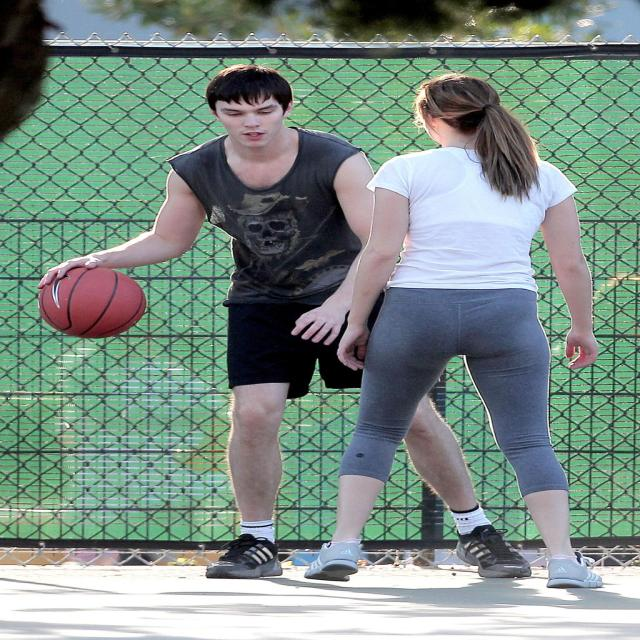Face: (212, 86, 290, 152)
